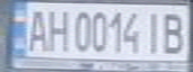0: (69, 7, 93, 53), (90, 7, 109, 54)
1: (106, 7, 124, 54)
4: (121, 8, 145, 54)
A: (21, 6, 51, 53)
B: (157, 8, 190, 55)
H: (42, 6, 72, 53)
I: (139, 8, 166, 55)
